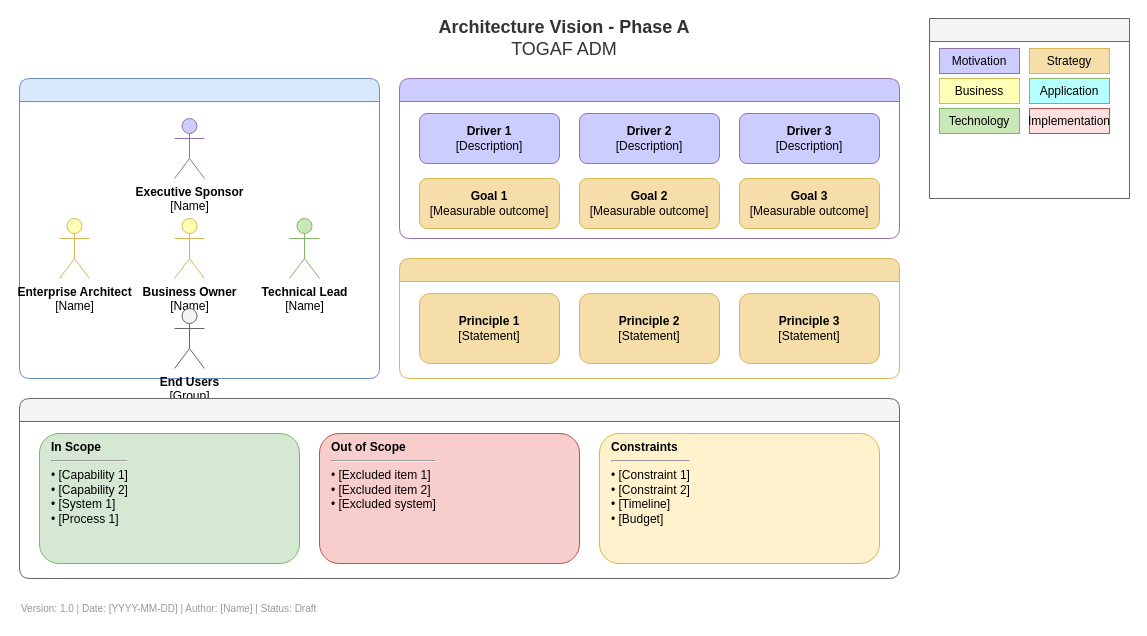
The diagram is 1147 pixels wide and 636 high, and some of its shapes have lost their labels. The box of each missing label's shape, as (x1, y1, x2, y2) in pixels:
ArchiMate Color Legend: (928, 18, 1130, 198)
Architecture Principles: (398, 258, 900, 378)
Architecture Scope: (18, 398, 900, 578)
Business Drivers & Goals: (398, 78, 900, 238)
Stakeholder Map: (18, 78, 380, 378)
